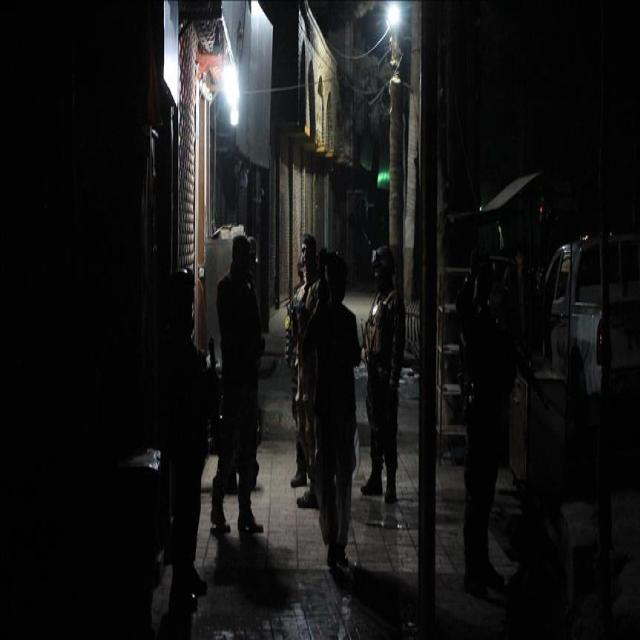Militant: (139, 238, 222, 615), (196, 216, 284, 551), (305, 238, 372, 610), (465, 215, 519, 589), (356, 223, 410, 538), (280, 203, 321, 516)
